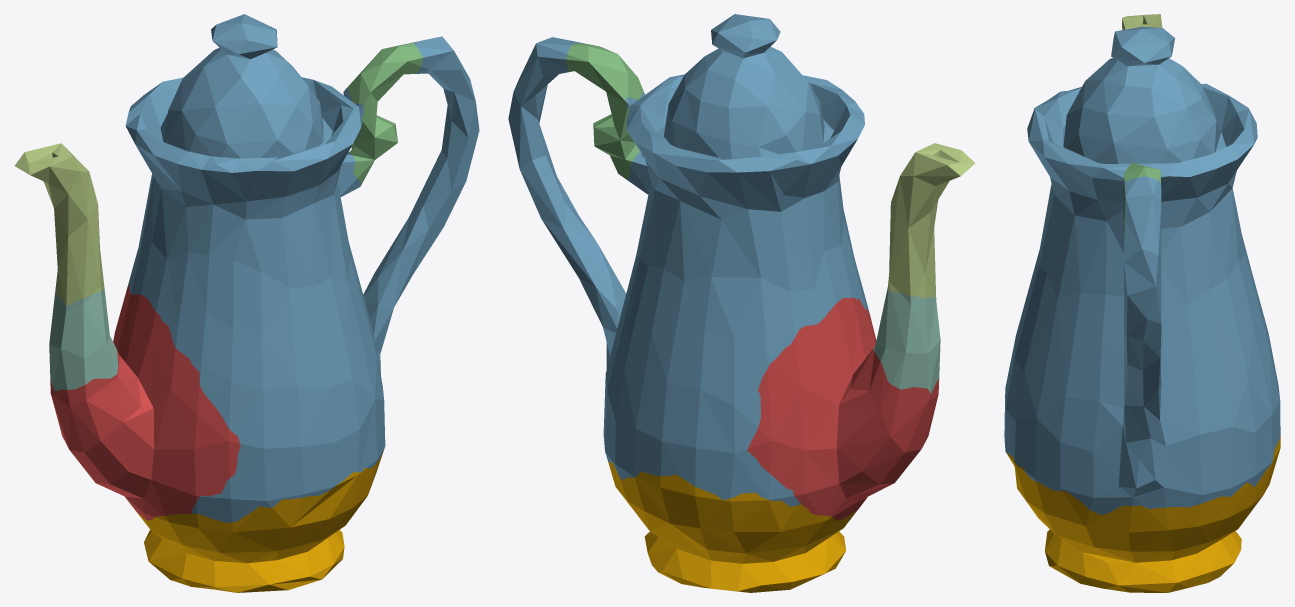
Rendered from mode_13_6pcs.glb.
The picture shows the model from 3 angles, left to right: view 1: azimuth 30°, elevation 25°; view 2: azimuth 150°, elevation 25°; view 3: azimuth 270°, elevation 25°; orthographic projection. The views are drawn at different scales.
Parts seen in each view (by area): view 1: piece_2.obj, piece_1.obj, piece_0.obj, piece_5.obj, piece_4.obj, piece_3.obj; view 2: piece_2.obj, piece_1.obj, piece_0.obj, piece_5.obj, piece_4.obj, piece_3.obj; view 3: piece_2.obj, piece_0.obj, piece_3.obj, piece_5.obj.
Boxes of the visible parts, x1,y1,x2,y2 form: piece_2.obj: (125,14,479,522); piece_1.obj: (50,285,240,520); piece_0.obj: (124,452,383,592); piece_5.obj: (15,143,104,305); piece_4.obj: (49,288,118,390); piece_3.obj: (347,43,422,183); piece_2.obj: (508,14,869,506); piece_1.obj: (747,297,939,520); piece_0.obj: (608,462,856,592); piece_5.obj: (887,143,975,298); piece_4.obj: (873,290,940,393); piece_3.obj: (566,43,643,179); piece_2.obj: (1004,26,1280,515); piece_0.obj: (1006,437,1280,592); piece_3.obj: (1123,163,1160,237); piece_5.obj: (1122,14,1162,29).
Size of the model in its own units: 0.8875 by 1 by 0.4782.
